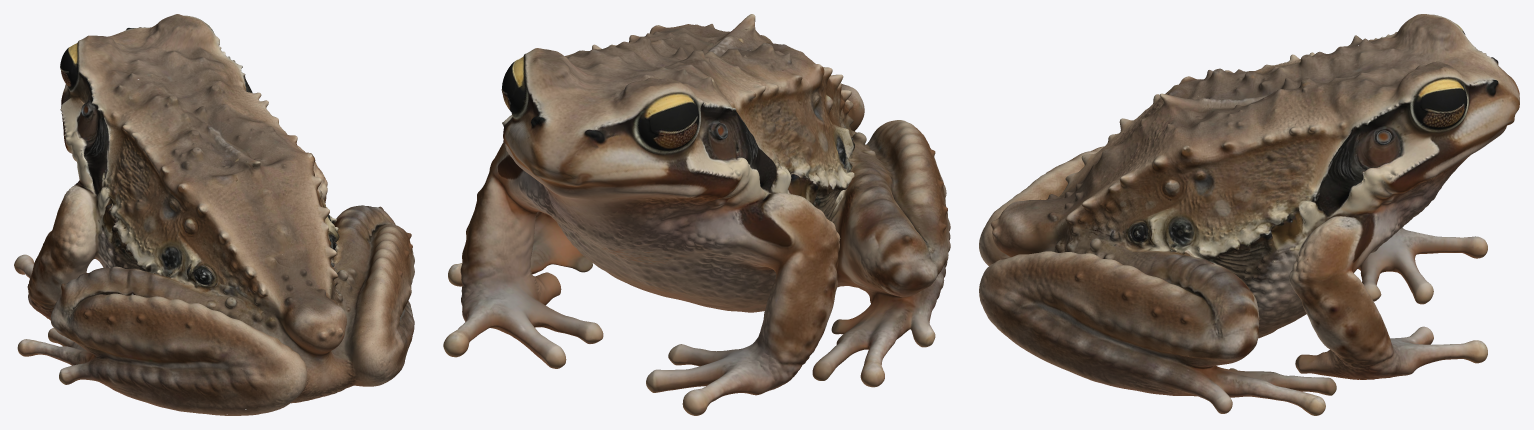
3 renders of one model, left to right at view 1: azimuth 30°, elevation 25°; view 2: azimuth 150°, elevation 25°; view 3: azimuth 270°, elevation 25°, orthographic. The views are drawn at different scales.
Visible parts, largest first — view 1: tripo_node_75e73586-34ab-4009-9f2f-4d9de976699e; view 2: tripo_node_75e73586-34ab-4009-9f2f-4d9de976699e; view 3: tripo_node_75e73586-34ab-4009-9f2f-4d9de976699e.
Boxes of the visible parts, bbox=[...] form: tripo_node_75e73586-34ab-4009-9f2f-4d9de976699e: bbox=[14, 14, 414, 415]; tripo_node_75e73586-34ab-4009-9f2f-4d9de976699e: bbox=[443, 14, 950, 415]; tripo_node_75e73586-34ab-4009-9f2f-4d9de976699e: bbox=[979, 14, 1519, 415].
Bounding box in the file's own units: 0.8433 × 0.5849 × 0.9999.
1 material, 1 textured.
